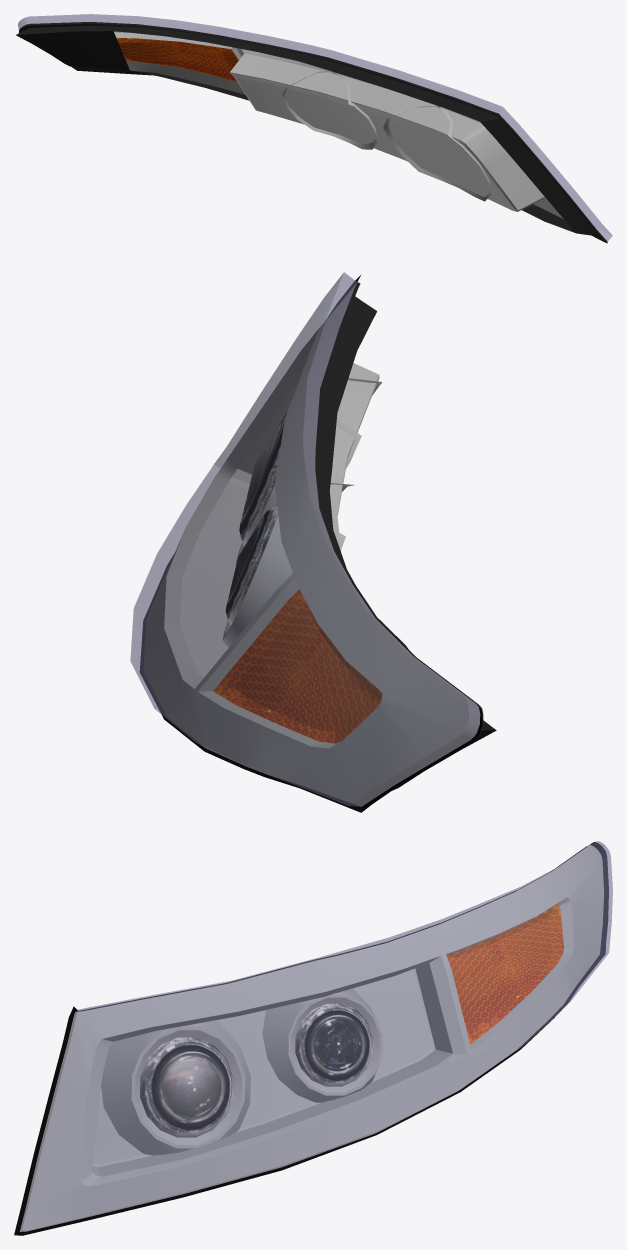
3 renders of one model, top to bottom at view 1: azimuth 30°, elevation 25°; view 2: azimuth 150°, elevation 25°; view 3: azimuth 270°, elevation 25°, orthographic. The views are drawn at different scales.
Visible parts, largest first — view 1: X8163_061B_L_X8163_061B_L_4_DaS, X8163_061B_L_X8163_061B_L_5_D, X8163_061B_L_X8163_061B_L_6_DTaSI, X8163_061B_L_1_N_X8163_061B_L; view 2: X8163_061B_L_X8163_061B_L_6_DTaSI, X8163_061B_L_X8163_061B_L_4_DaS, X8163_061B_L_1_N_X8163_061B_L, X8163_061B_L_X8163_061B_L_5_D, X8163_061B_L_X8163_061B_L_7_D, X8163_061B_L_X8163_061B_L_3_N, X8163_061B_L_X8163_061B_L_2_N; view 3: X8163_061B_L_X8163_061B_L_6_DTaSI, X8163_061B_L_X8163_061B_L_4_DaS, X8163_061B_L_1_N_X8163_061B_L, X8163_061B_L_X8163_061B_L_3_N, X8163_061B_L_X8163_061B_L_2_N, X8163_061B_L_X8163_061B_L_7_D.
Part boxes in pixels (x1,y1,x2,y2): X8163_061B_L_X8163_061B_L_4_DaS: (113,31,563,218); X8163_061B_L_X8163_061B_L_5_D: (16,22,607,243); X8163_061B_L_X8163_061B_L_6_DTaSI: (18,14,612,241); X8163_061B_L_1_N_X8163_061B_L: (116,37,238,81); X8163_061B_L_X8163_061B_L_6_DTaSI: (130,272,479,806); X8163_061B_L_X8163_061B_L_4_DaS: (143,283,480,806); X8163_061B_L_1_N_X8163_061B_L: (213,589,382,743); X8163_061B_L_X8163_061B_L_5_D: (315,282,496,790); X8163_061B_L_X8163_061B_L_7_D: (140,275,482,812); X8163_061B_L_X8163_061B_L_3_N: (239,413,286,546); X8163_061B_L_X8163_061B_L_2_N: (225,505,277,624); X8163_061B_L_X8163_061B_L_6_DTaSI: (20,841,612,1231); X8163_061B_L_X8163_061B_L_4_DaS: (20,845,604,1231); X8163_061B_L_1_N_X8163_061B_L: (446,904,563,1044); X8163_061B_L_X8163_061B_L_3_N: (140,1037,233,1137); X8163_061B_L_X8163_061B_L_2_N: (295,1003,373,1086); X8163_061B_L_X8163_061B_L_7_D: (14,842,608,1235).
Size of the model in its own units: 39.37 by 14.98 by 44.16.
